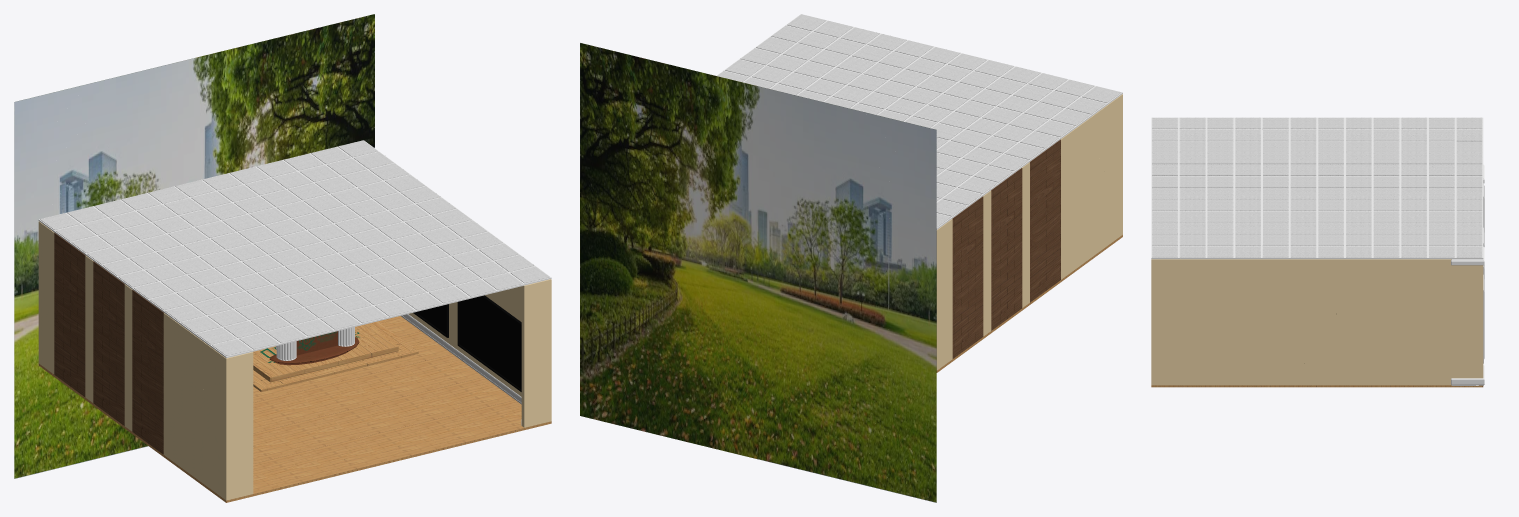
Rendered from newsroom.glb.
3 views of the same model, side by side, from view 1: azimuth 30°, elevation 25°; view 2: azimuth 150°, elevation 25°; view 3: azimuth 270°, elevation 25° (orthographic). The views are drawn at different scales.
Parts seen in each view (by area): view 1: rest -1 -2, rest -2 -2, rest 0 -2, rest -2 -1, rest -2 0, ceiling 0 -1, ceiling -1 -1, ceiling 0 0, ceiling -1 0, floor 0 0, rest -2 1, rest 1 -2 (+26 smaller); view 2: rest 0 -2, rest -1 -2, rest -2 -2, rest 1 -2, rest -2 -1, rest -2 0, ceiling 0 0, ceiling -1 0, rest -2 1, ceiling 0 1, ceiling -2 -1, ceiling -2 0 (+7 smaller); view 3: rest 1 -1, rest 1 0, ceiling 0 -1, ceiling 0 0, ceiling -1 -1, ceiling -1 0, rest 1 -2, rest 1 1, ceiling -2 -1, ceiling 0 1, ceiling -2 0, ceiling -1 1 (+12 smaller).
Part boxes in pixels (x1,y1,x2,y2): rest -1 -2: (51,58,216,469); rest -2 -2: (14,84,98,478); rest 0 -2: (194,23,350,190); rest -2 -1: (42,224,160,433); rest -2 0: (132,276,238,479); ceiling 0 -1: (218,158,428,247); ceiling -1 -1: (97,191,294,280); ceiling 0 0: (296,215,506,298); ceiling -1 0: (161,248,371,331); floor 0 0: (295,354,486,437); rest -2 1: (195,332,280,502); rest 1 -2: (303,14,377,157); rest 0 -2: (616,51,758,459); rest -1 -2: (758,86,900,493); rest -2 -2: (865,112,966,502); rest 1 -2: (580,43,650,432); rest -2 -1: (936,154,1029,371); rest -2 0: (984,100,1107,304); ceiling 0 0: (744,32,930,114); ceiling -1 0: (877,65,1064,152); rest -2 1: (1060,86,1122,259); ceiling 0 1: (813,20,960,74); ceiling -2 -1: (936,153,1029,218); ceiling -2 0: (986,97,1106,161); rest 1 -1: (1290,245,1457,387); rest 1 0: (1179,245,1344,387); ceiling 0 -1: (1318,188,1454,245); ceiling 0 0: (1180,188,1318,245); ceiling -1 -1: (1318,129,1454,188); ceiling -1 0: (1180,129,1318,188); rest 1 -2: (1431,245,1484,387); rest 1 1: (1151,245,1206,387); ceiling -2 -1: (1318,117,1454,140); ceiling 0 1: (1151,188,1204,245); ceiling -2 0: (1180,117,1318,140); ceiling -1 1: (1151,129,1205,188).
Bounding box in the file's own units: 8.78 × 8.78 × 8.43.
Materials: 17 (10 with a texture image).
